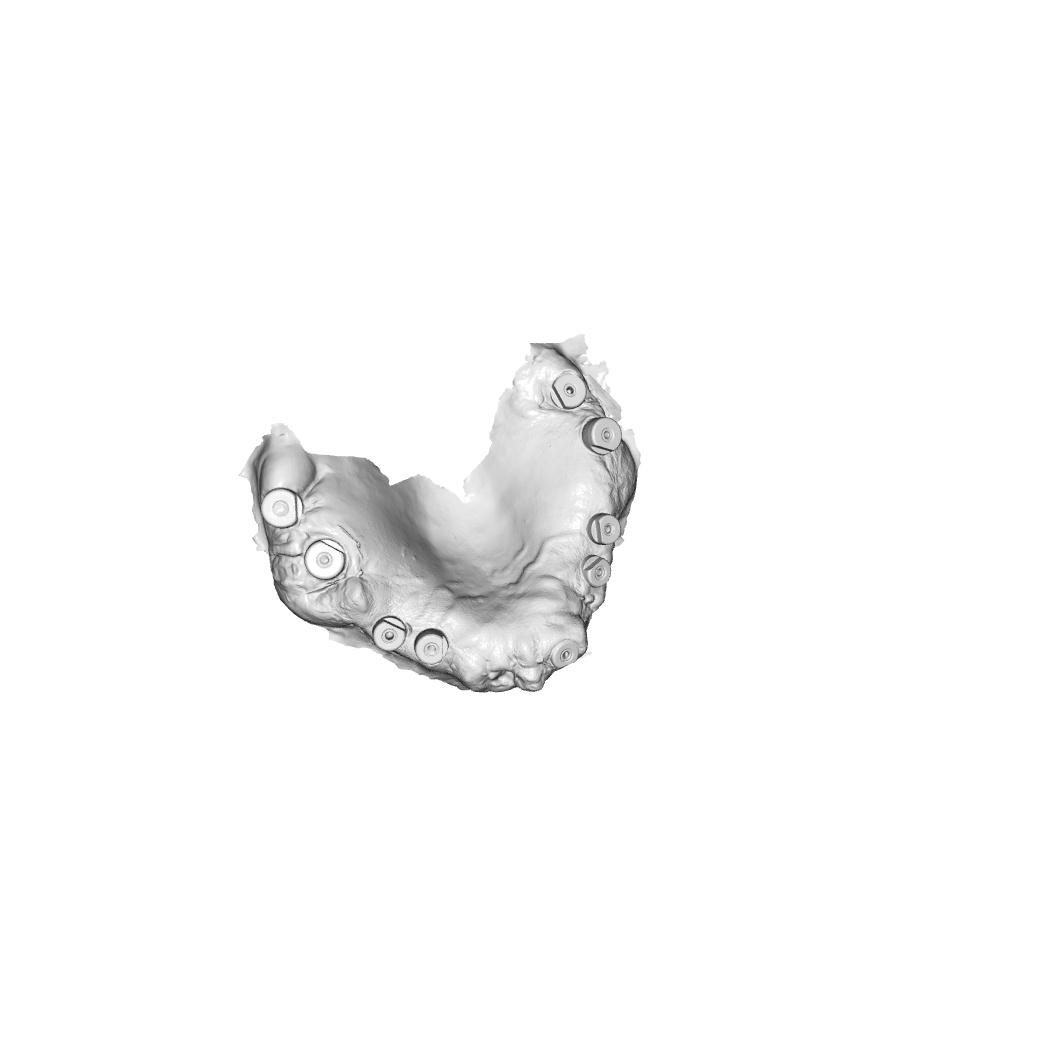implant: (257, 483, 306, 531), (301, 538, 349, 582), (581, 415, 623, 457), (549, 371, 588, 412), (371, 615, 408, 653), (413, 628, 450, 666), (586, 511, 622, 546), (580, 553, 612, 589), (549, 638, 580, 669)
